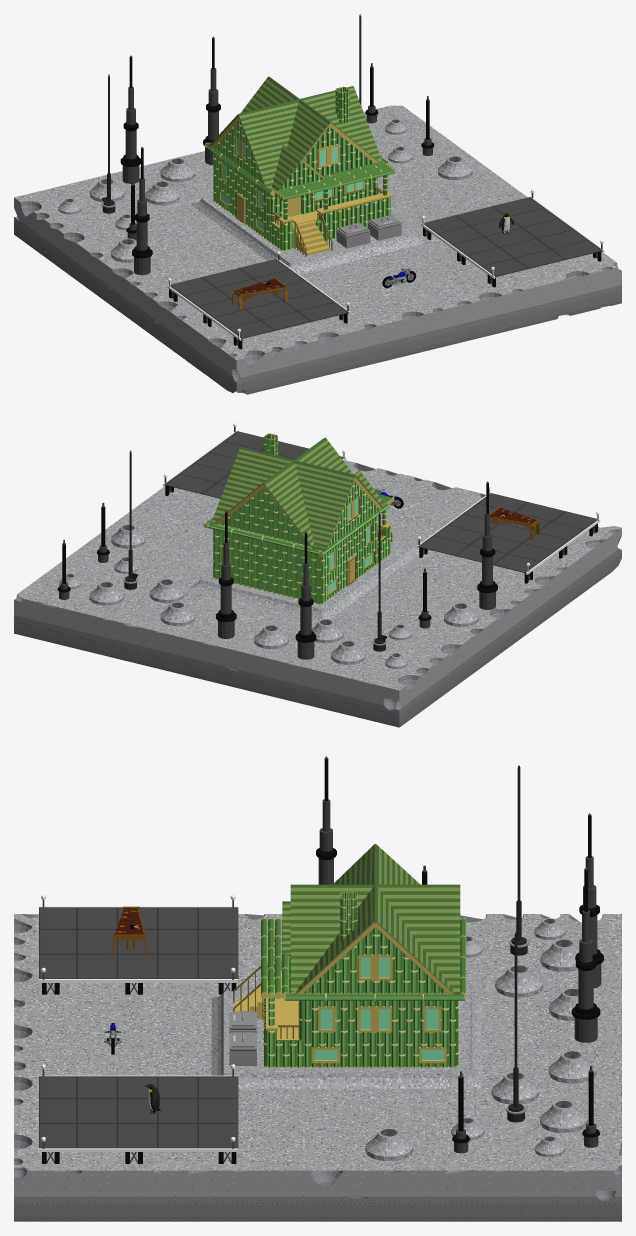
3 views of the same model, one above another, from view 1: azimuth 30°, elevation 25°; view 2: azimuth 150°, elevation 25°; view 3: azimuth 270°, elevation 25° (orthographic). The views are drawn at different scales.
Visible parts, largest first — view 1: Cube.027, Cube.1327, Cube.026, Cube.025, Cube.028, Cylinder.020, Cylinder.021, Cylinder.017, OBJRANDOM_MARIMBA, Cube.029, Cube.030, Cylinder.027 (+3 smaller); view 2: Cube.027, Cube.1327, Cube.025, Cube.028, Cube.026, Cylinder.020, Cylinder.021, Cylinder.017, OBJRANDOM_MARIMBA, Cylinder.031, Cylinder.028, Cylinder.029 (+7 smaller); view 3: Cube.027, Cube.1327, Cube.026, Cube.025, Cube.028, Cylinder.017, Cylinder.020, Cylinder.021, Cylinder.033, Cylinder.031, Cylinder.029, Cylinder.026 (+9 smaller).
Boxes of the visible parts, bbox=[...] form: Cube.027: bbox=[14, 105, 621, 394]; Cube.1327: bbox=[204, 76, 394, 256]; Cube.026: bbox=[421, 189, 604, 287]; Cube.025: bbox=[167, 251, 350, 349]; Cube.028: bbox=[191, 195, 424, 274]; Cylinder.020: bbox=[120, 55, 140, 183]; Cylinder.021: bbox=[132, 146, 152, 275]; Cylinder.017: bbox=[203, 36, 220, 164]; OBJRANDOM_MARIMBA: bbox=[232, 277, 287, 309]; Cube.029: bbox=[336, 222, 370, 248]; Cube.030: bbox=[368, 215, 401, 240]; Cylinder.027: bbox=[160, 158, 195, 182]; Cube.027: bbox=[14, 460, 621, 727]; Cube.1327: bbox=[203, 433, 394, 604]; Cube.025: bbox=[417, 485, 600, 583]; Cube.028: bbox=[190, 538, 419, 620]; Cube.026: bbox=[163, 423, 346, 498]; Cylinder.020: bbox=[295, 531, 316, 659]; Cylinder.021: bbox=[477, 481, 497, 609]; Cylinder.017: bbox=[216, 510, 236, 638]; OBJRANDOM_MARIMBA: bbox=[490, 507, 540, 539]; Cylinder.031: bbox=[89, 581, 124, 605]; Cylinder.028: bbox=[331, 640, 365, 664]; Cylinder.029: bbox=[160, 601, 195, 626]; Cube.027: bbox=[14, 914, 621, 1221]; Cube.1327: bbox=[233, 844, 466, 1068]; Cube.026: bbox=[39, 1064, 238, 1163]; Cube.025: bbox=[39, 895, 238, 994]; Cube.028: bbox=[211, 991, 481, 1088]; Cylinder.017: bbox=[571, 867, 600, 1042]; Cylinder.020: bbox=[575, 813, 603, 988]; Cylinder.021: bbox=[316, 756, 336, 884]; Cylinder.033: bbox=[365, 1128, 413, 1160]; Cylinder.031: bbox=[540, 1100, 587, 1132]; Cylinder.029: bbox=[548, 1050, 596, 1083]; Cylinder.026: bbox=[495, 964, 543, 997].
Bounding box in the file's own units: 4000 × 1799 × 4000.
Materials: 35 (5 with a texture image).
